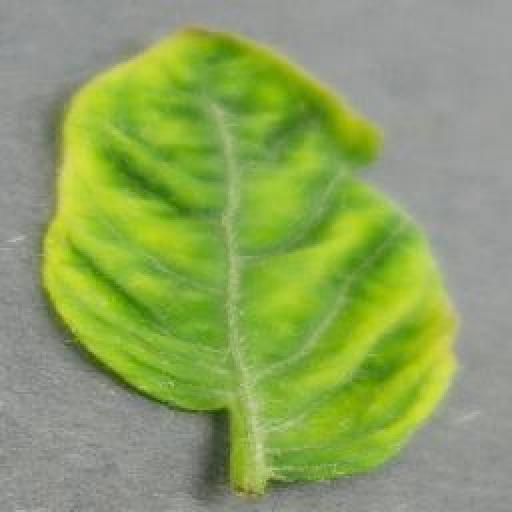disease_tomato: (44, 23, 460, 485)
